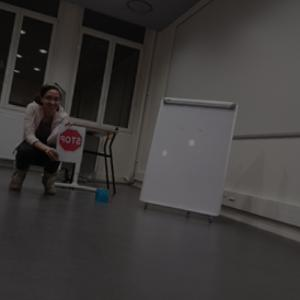stop: (59, 128, 82, 152)
